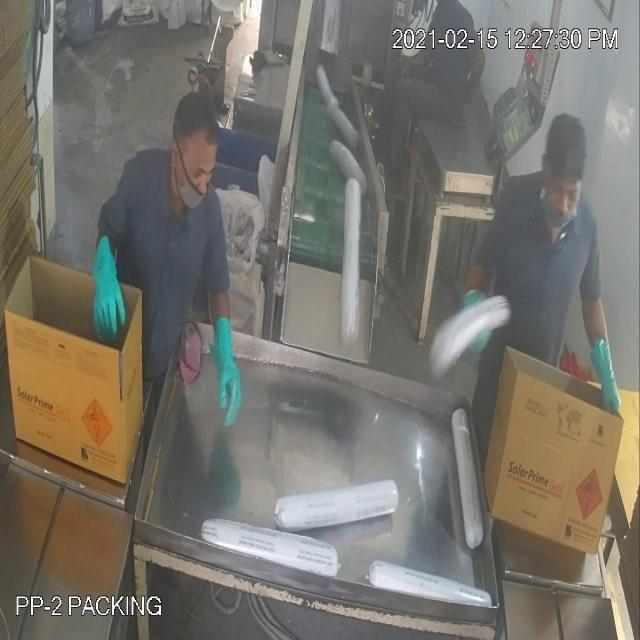Gloves: (30, 47, 610, 380)
